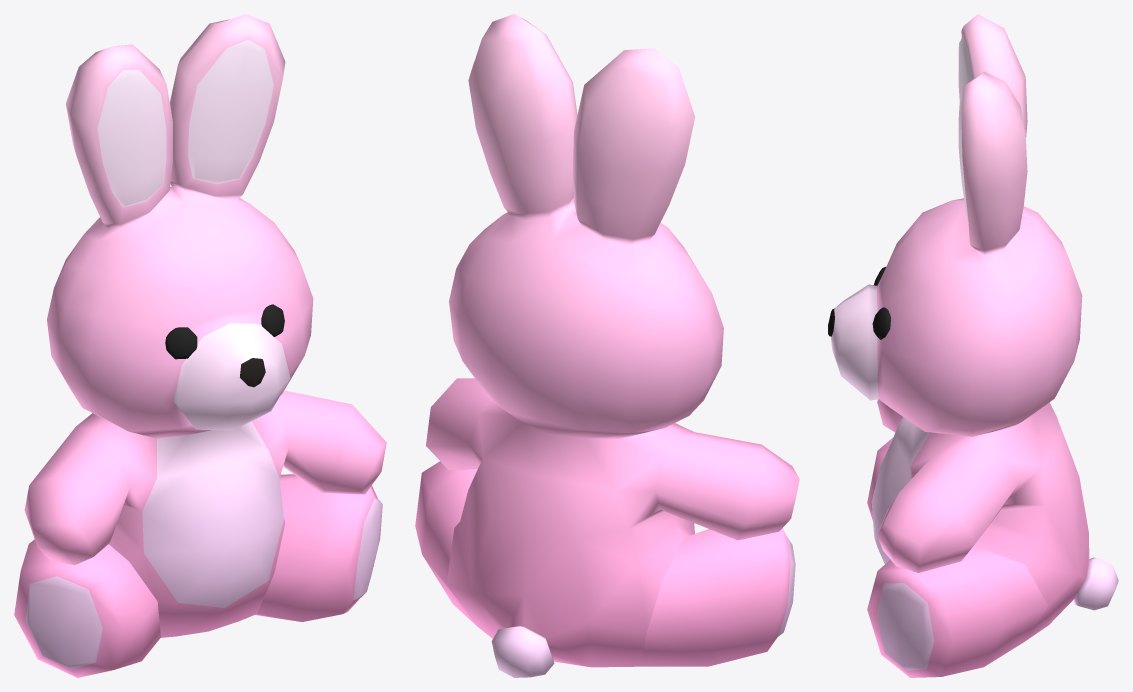
Rendered from rabbit.glb.
3 renders of one model, left to right at view 1: azimuth 30°, elevation 25°; view 2: azimuth 150°, elevation 25°; view 3: azimuth 270°, elevation 25°, orthographic. The views are drawn at different scales.
Visible parts, largest first — view 1: Rabbit_01; view 2: Rabbit_01; view 3: Rabbit_01.
Part boxes in pixels (left/top/right/bottom): Rabbit_01: left=14, top=14, right=386, bottom=677; Rabbit_01: left=415, top=14, right=799, bottom=677; Rabbit_01: left=828, top=14, right=1118, bottom=677.
Bounding box in the file's own units: 0.3099 × 0.5016 × 0.229.
Materials: 2 (2 with a texture image).
